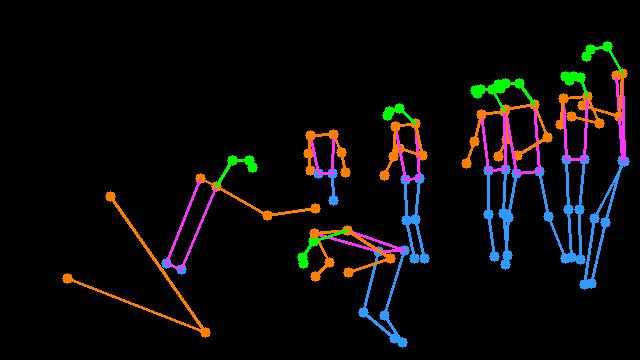normal: (457, 68, 573, 274), (375, 97, 451, 267), (295, 124, 360, 209)
